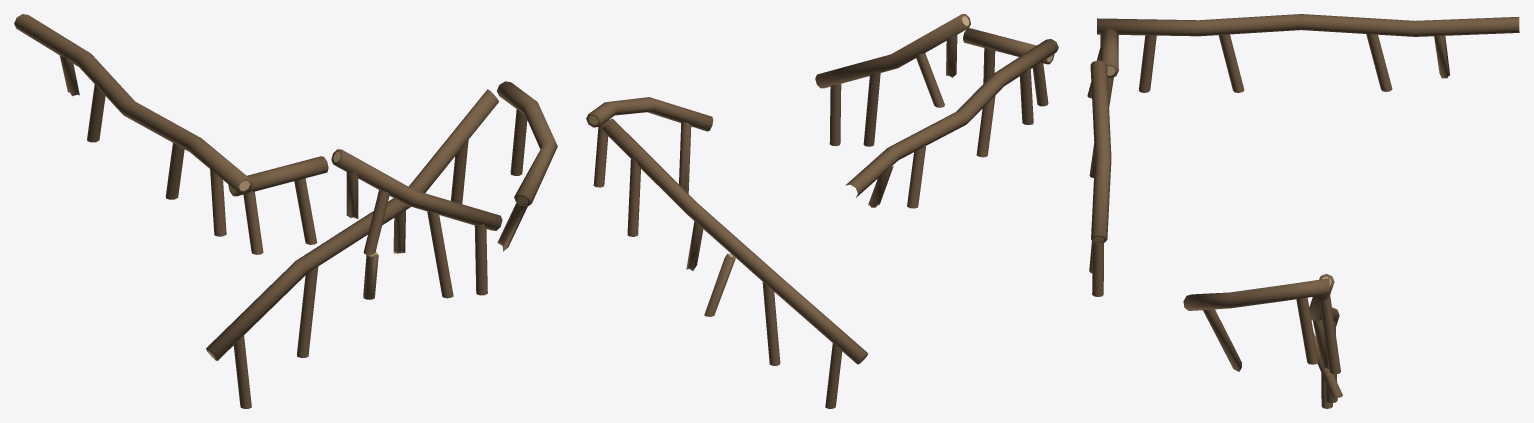
File: rpgpp_av_stairs_interior_01c_3m_handrail_01.gltf
3 renders of one model, left to right at view 1: azimuth 30°, elevation 25°; view 2: azimuth 150°, elevation 25°; view 3: azimuth 270°, elevation 25°, orthographic. The views are drawn at different scales.
Visible parts, largest first — view 1: rpgpp_av_stairs_interior_01c_3m_handrail_01; view 2: rpgpp_av_stairs_interior_01c_3m_handrail_01; view 3: rpgpp_av_stairs_interior_01c_3m_handrail_01.
Part boxes in pixels (x1,y1,x2,y2): rpgpp_av_stairs_interior_01c_3m_handrail_01: [14, 14, 557, 408]; rpgpp_av_stairs_interior_01c_3m_handrail_01: [586, 14, 1058, 408]; rpgpp_av_stairs_interior_01c_3m_handrail_01: [1087, 14, 1519, 408].
Bounding box in the file's own units: 0.0447 × 0.0365 × 0.0427.
Materials: 1 (1 with a texture image).
